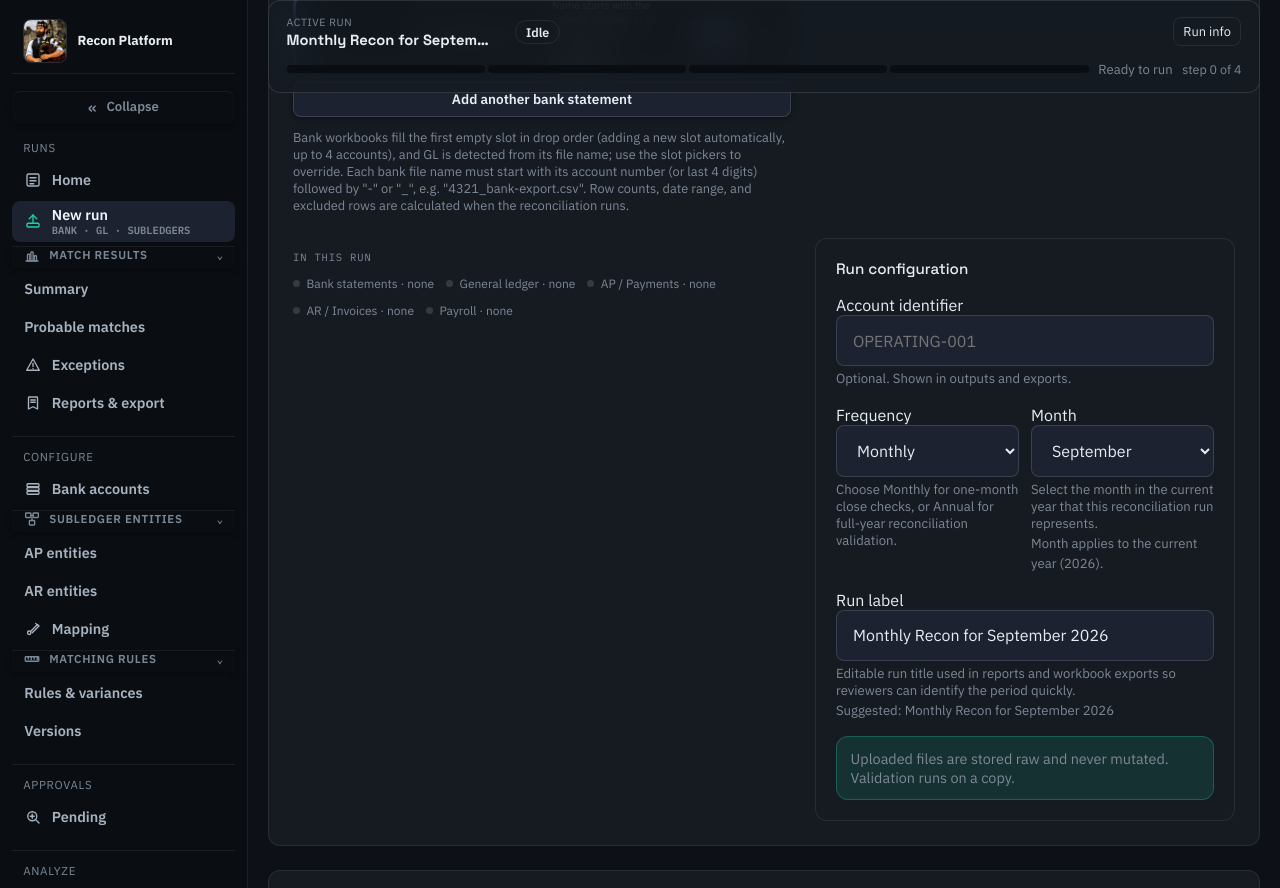
Scenario: App › shows an annual year picker with the previous seven years when annual is selected
The image size is (1280, 888).
(page scrolled)
Select "Annual" in the dropdown labelled "Frequency" at (928, 451), box [836,424,1019,477]
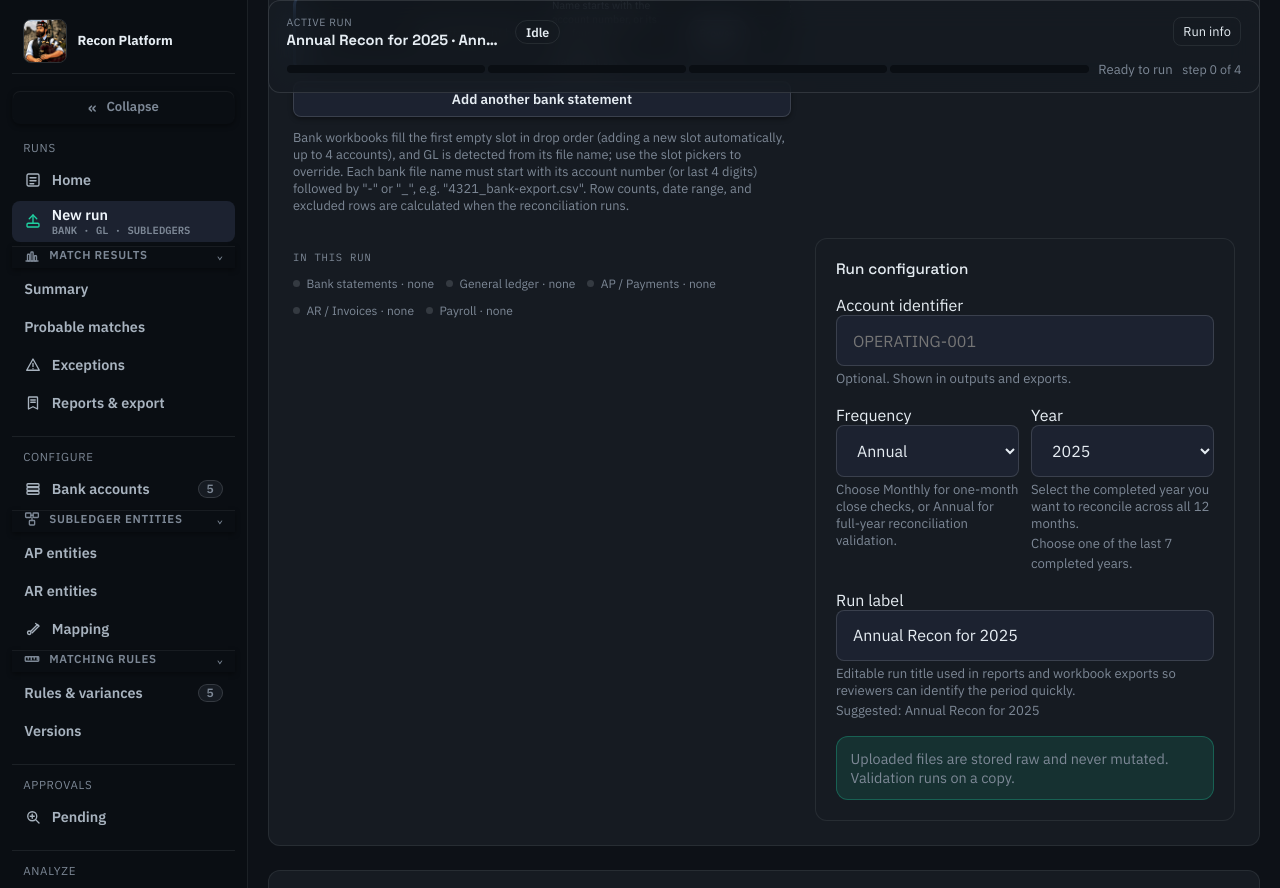
Expected: the text "Choose one of the last 7 completed years." is shown, [1031,535,1172,572]
